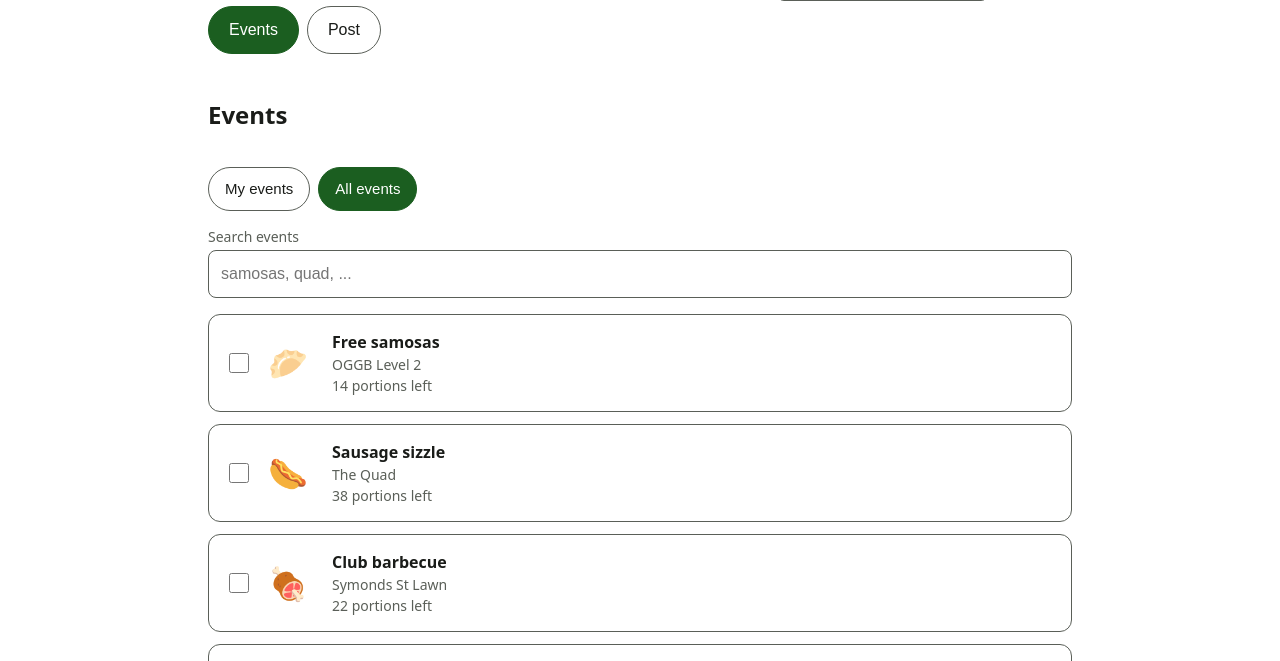
it: PostEventScreen › sends the trimmed form through the repository
This screenshot has width=1280, height=661.
Step 1. Click the button "Post" → click(344, 30), box [307,6,381,54]
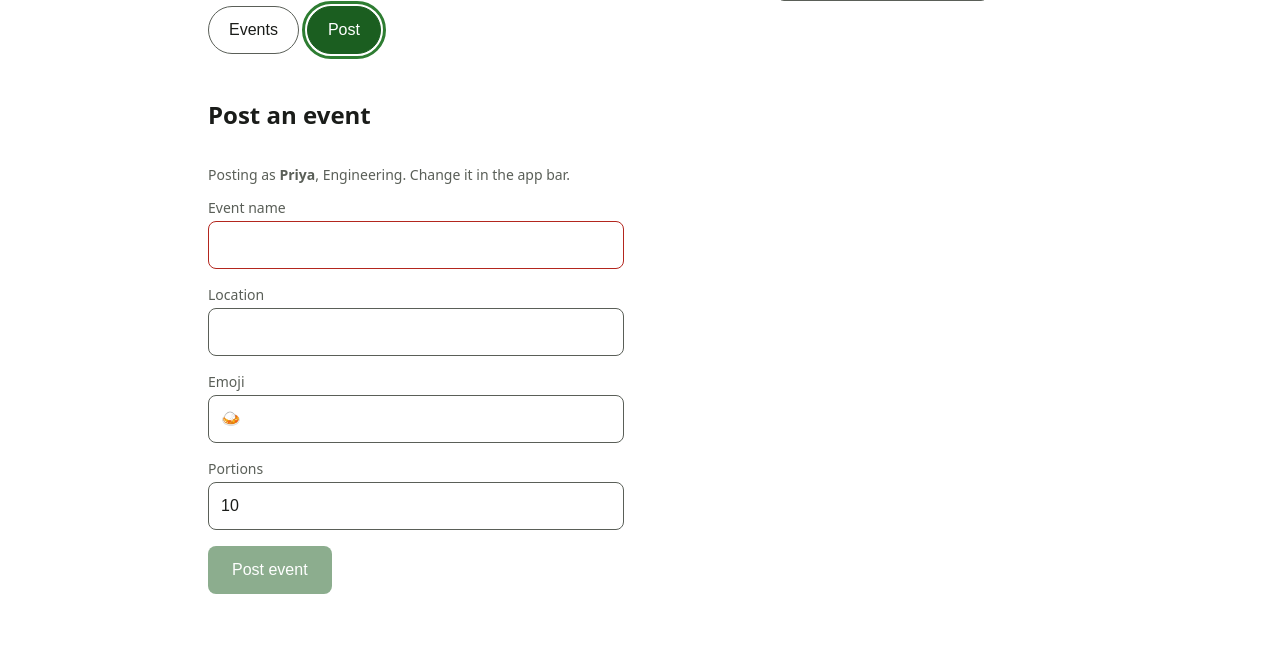
Step 2. Type "  Pizza in 401  " into the field labelled "Event name" → (416, 245), box [208,221,624,269]
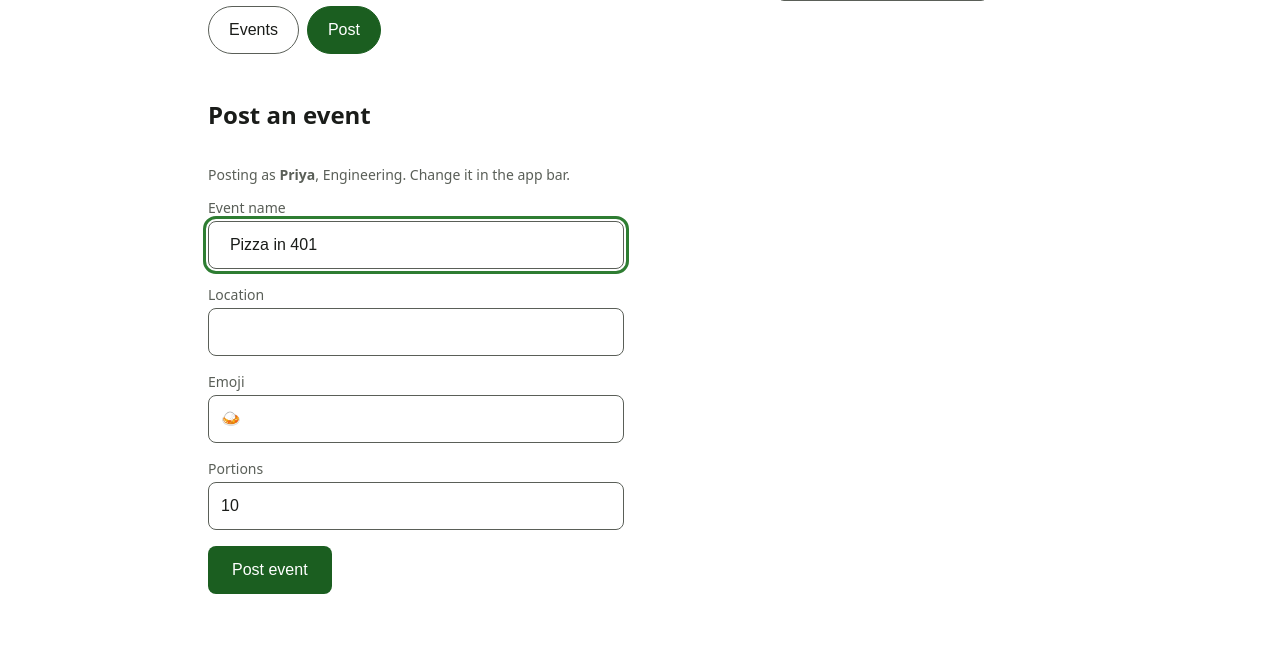
Step 3. Type "Engineering 401" into the field labelled "Location" → (416, 332), box [208,308,624,356]
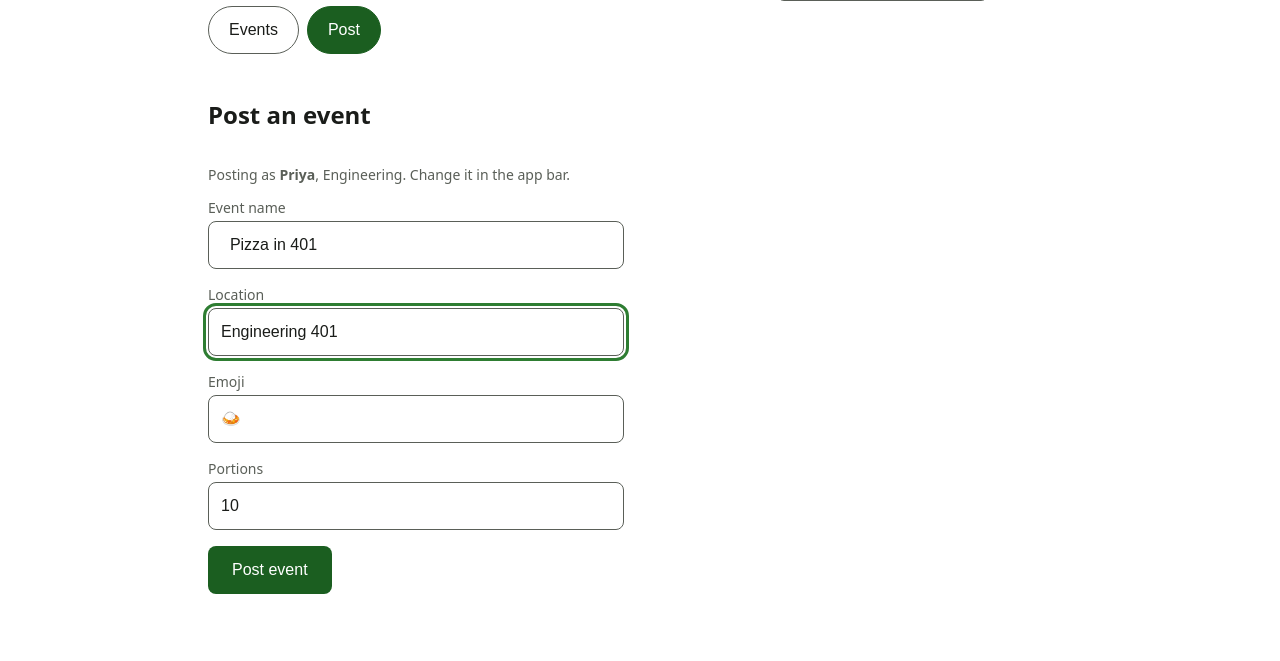
Step 4. Click the button "Post event" → click(270, 570), box [208,546,332,594]
(page scrolled)
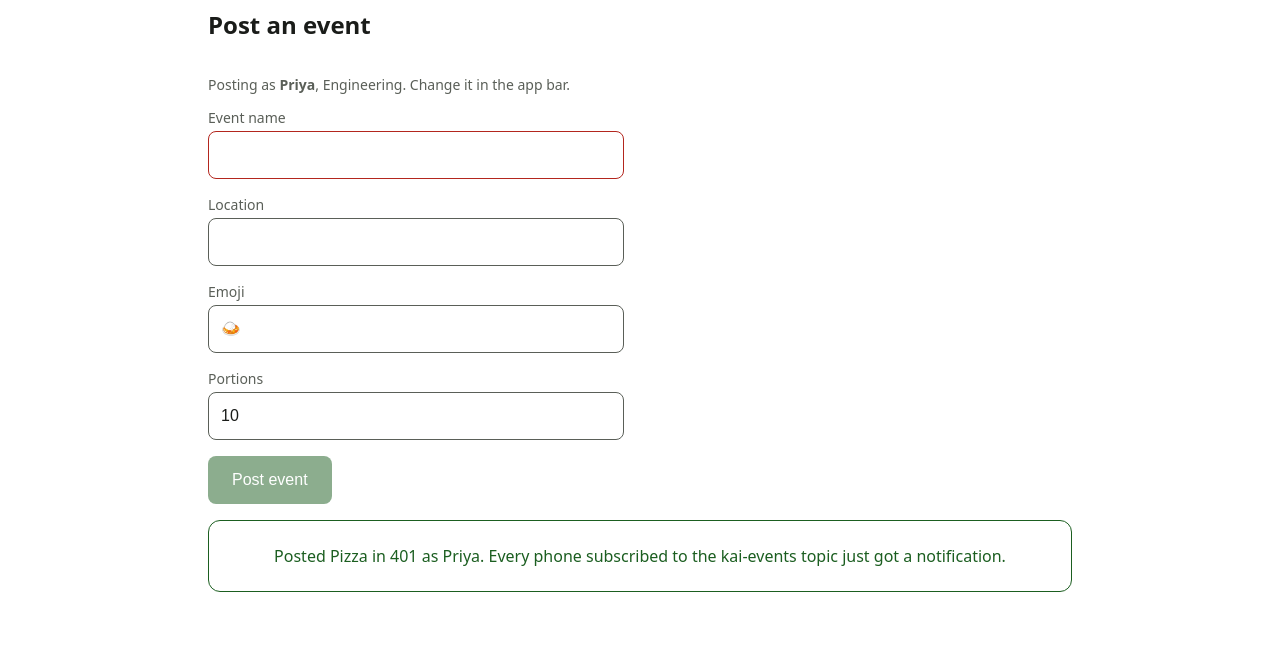
expect the message shows "Pizza in 401": met, box [330,545,418,567]
